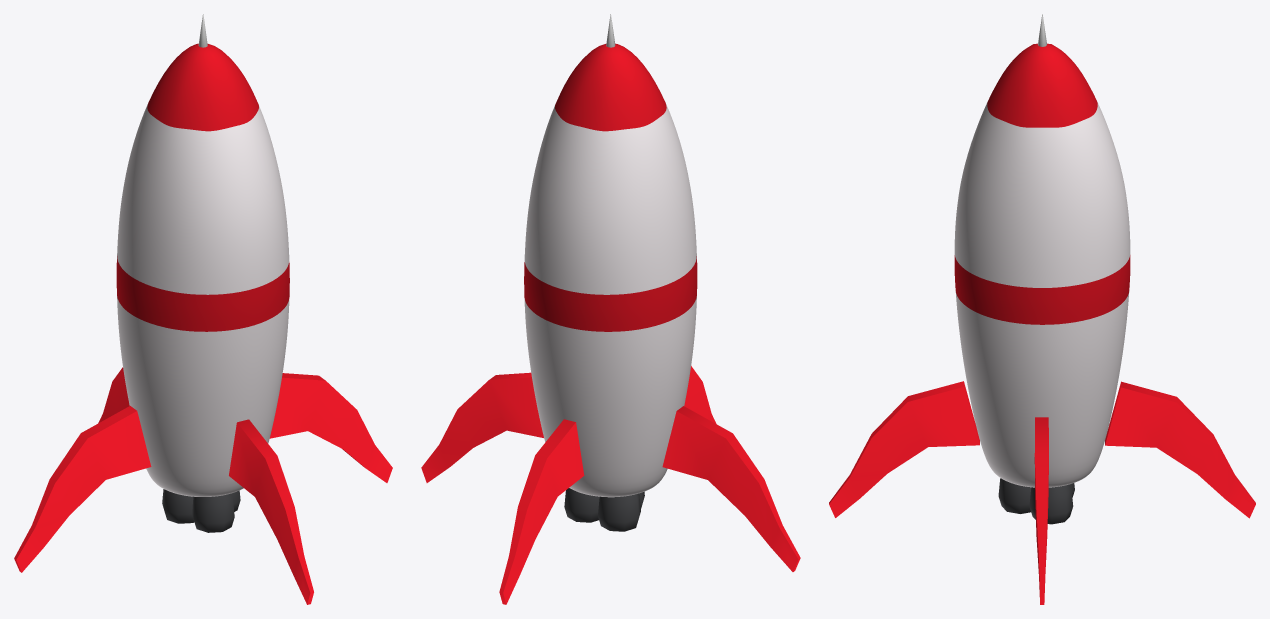
File: spaceship2.fbx
3 renders of one model, left to right at view 1: azimuth 30°, elevation 25°; view 2: azimuth 150°, elevation 25°; view 3: azimuth 270°, elevation 25°, orthographic.
Visible parts, largest first — view 1: Cylinder, Cube, Cube.002, Cube.001, Cylinder.002, Cylinder.003, Cube.003; view 2: Cylinder, Cube, Cube.002, Cube.003, Cylinder.003, Cylinder.001, Cube.001; view 3: Cylinder, Cube.001, Cube.003, Cube.002, Cylinder.001, Cylinder.002.
Boxes of the visible parts, x1,y1,x2,y2 form: Cylinder: (116, 43, 289, 496); Cube: (14, 406, 151, 572); Cube.002: (269, 373, 392, 482); Cube.001: (229, 419, 313, 604); Cylinder.002: (192, 493, 234, 532); Cylinder.003: (162, 489, 194, 523); Cube.003: (98, 367, 129, 423); Cylinder: (524, 43, 697, 497); Cube: (662, 406, 800, 571); Cube.002: (421, 372, 543, 482); Cube.003: (499, 419, 584, 604); Cylinder.003: (598, 493, 640, 531); Cylinder.001: (564, 488, 599, 522); Cube.001: (684, 366, 716, 423); Cylinder: (954, 43, 1130, 487); Cube.001: (829, 381, 979, 517); Cube.003: (1105, 381, 1255, 518); Cube.002: (1034, 417, 1048, 604); Cylinder.001: (1029, 484, 1073, 524); Cylinder.002: (998, 478, 1031, 513).
Size of the model in its own units: 333 by 433 by 333.
